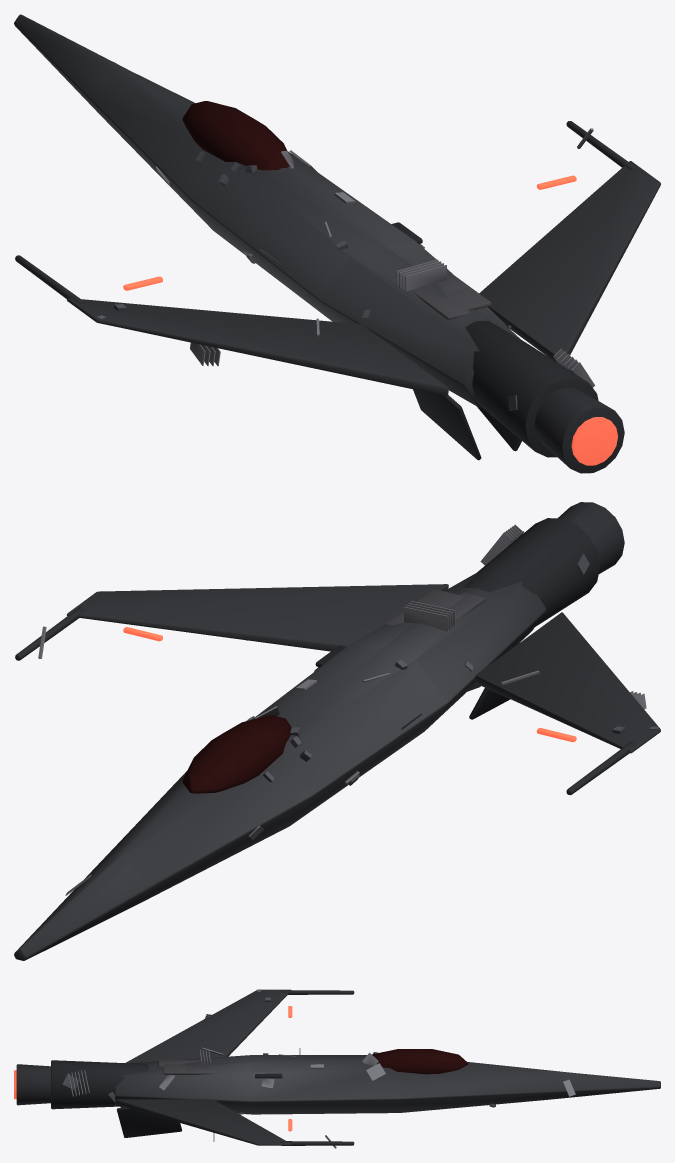
Rendered from enemy_razor.glb.
3 renders of one model, top to bottom at view 1: azimuth 30°, elevation 25°; view 2: azimuth 150°, elevation 25°; view 3: azimuth 270°, elevation 25°, orthographic. The views are drawn at different scales.
Visible parts, largest first — view 1: EnemyRazor; view 2: EnemyRazor; view 3: EnemyRazor.
Part boxes in pixels (left/top/right/bottom): EnemyRazor: left=14, top=14, right=660, bottom=473; EnemyRazor: left=14, top=502, right=660, bottom=960; EnemyRazor: left=14, top=989, right=660, bottom=1148.
Size of the model in its own units: 7.44 by 1.85 by 13.15.
